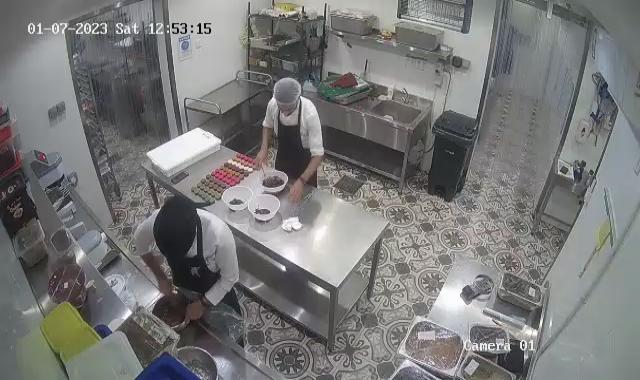hairnet: (271, 76, 302, 112)
no_hairnet: (154, 197, 198, 260)
